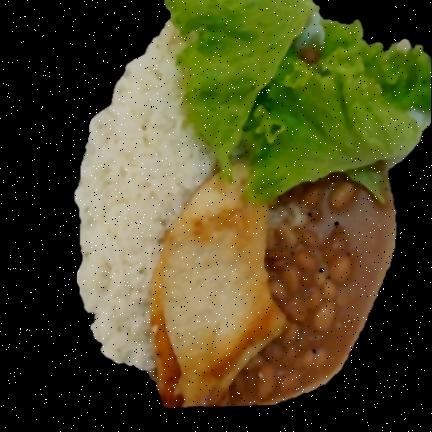beans: (229, 177, 395, 404)
chicken: (152, 165, 285, 406)
rice: (75, 22, 215, 371)
salad: (165, 0, 431, 202)
